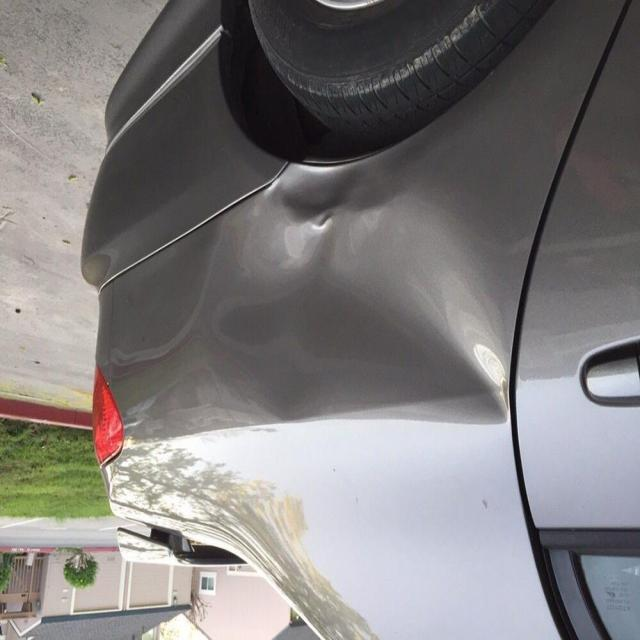dent: (218, 146, 514, 452)
